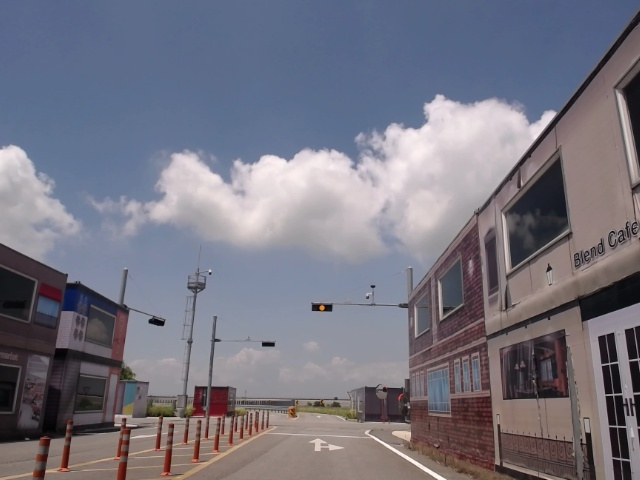orange_3: (311, 304, 333, 312)
